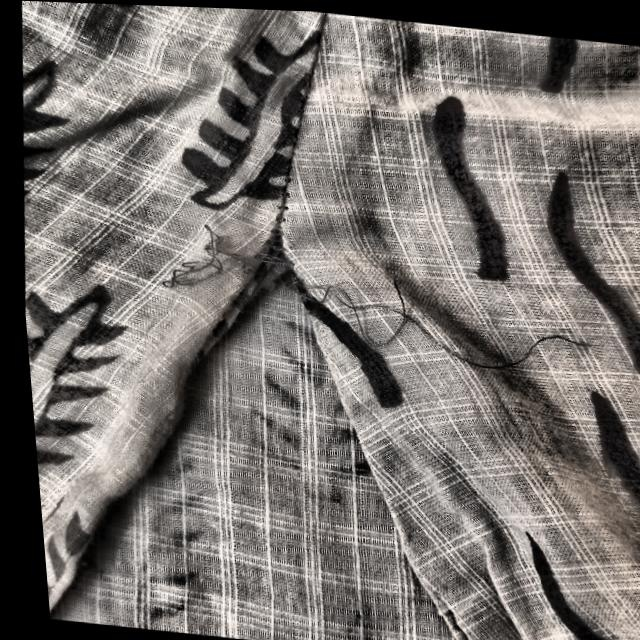Stitch: (114, 178, 636, 440), (126, 163, 393, 396)
